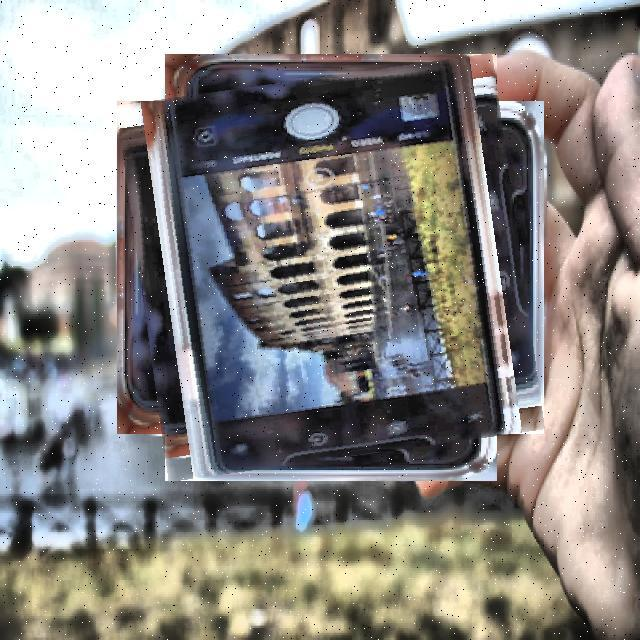Phone: (128, 65, 533, 470)
